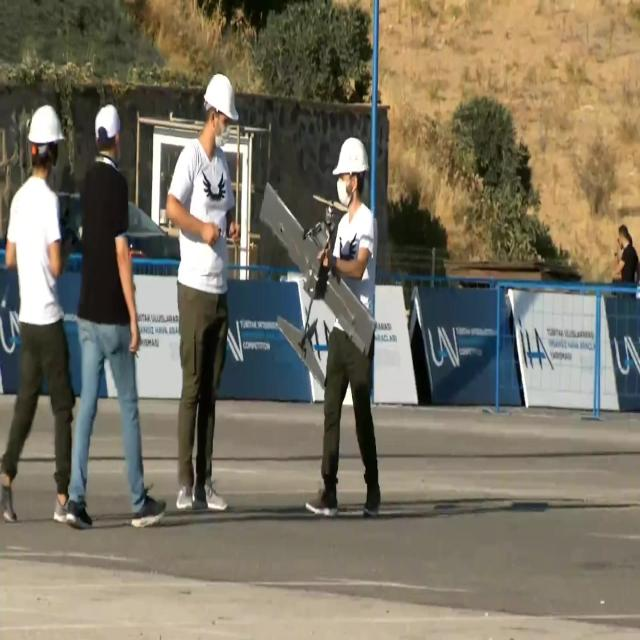iha: (290, 179, 344, 389)
